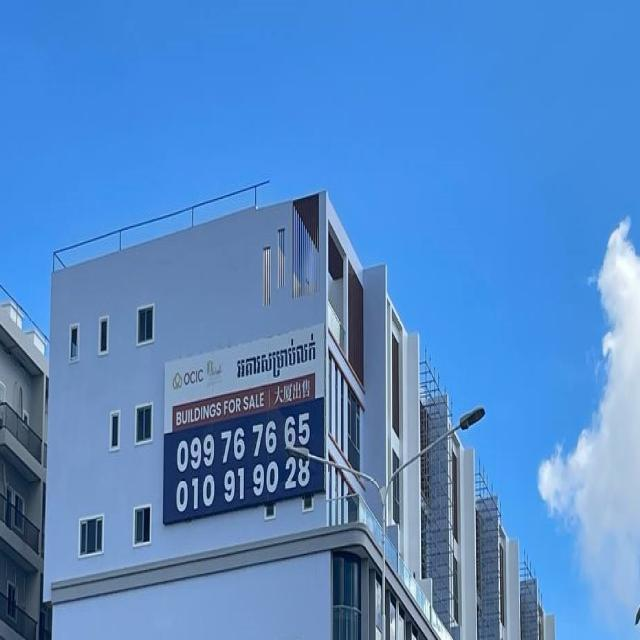231: (170, 450, 314, 519)
501: (175, 398, 315, 468)
Yolov11_80vkh: (236, 328, 318, 387)
